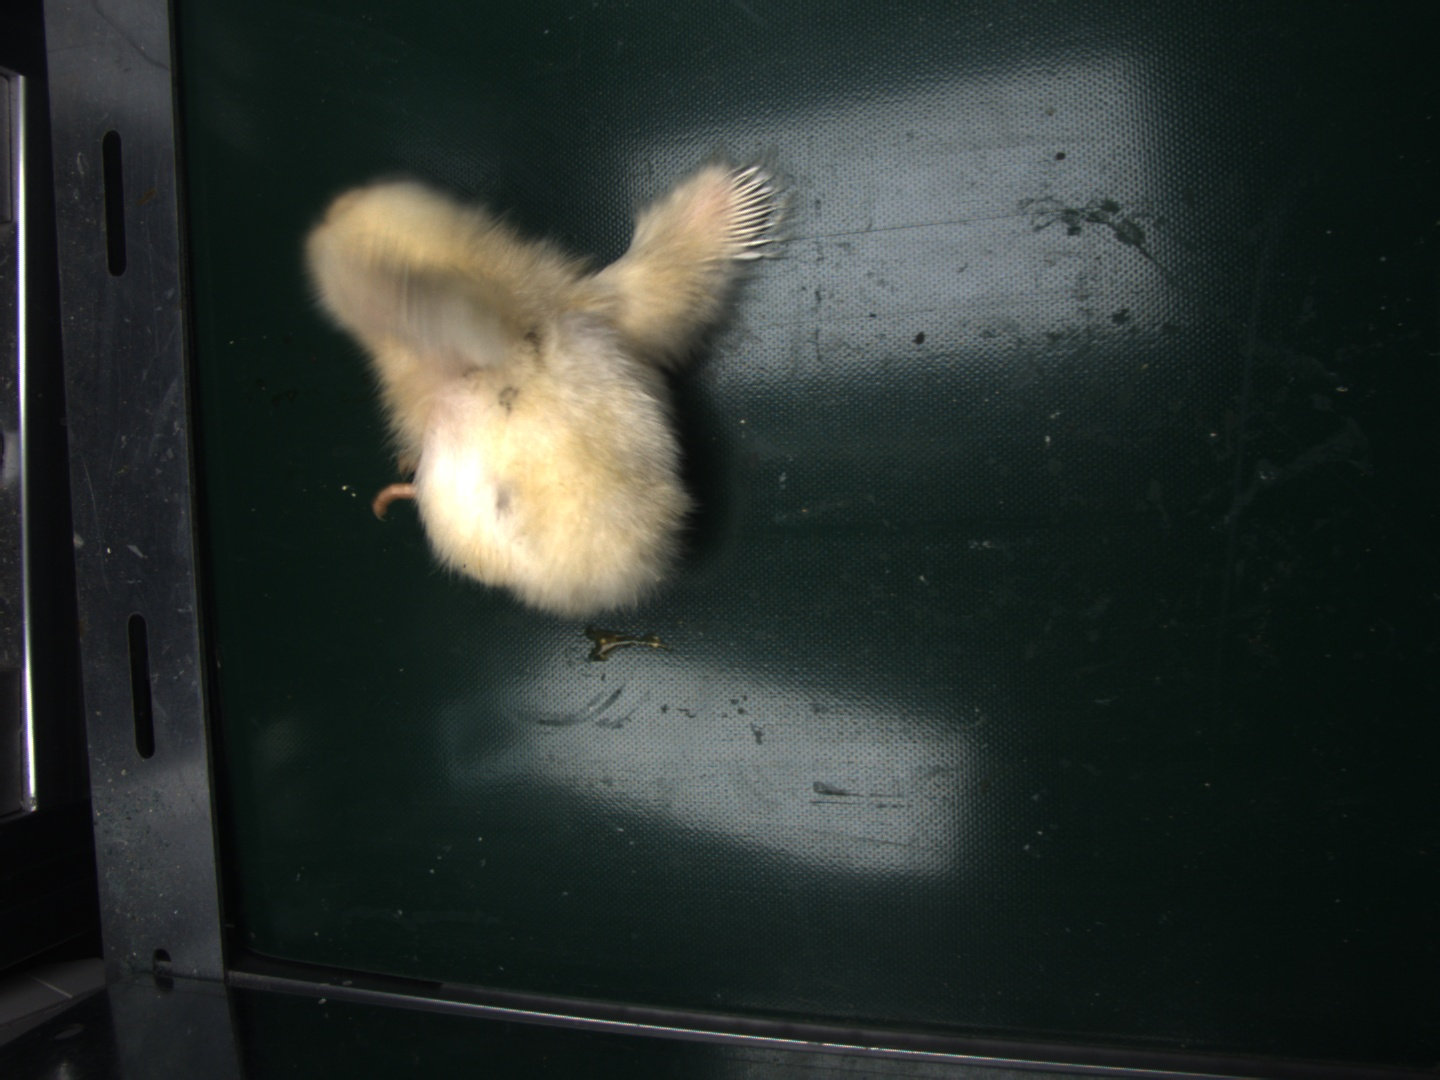male: (718, 166, 780, 260)
